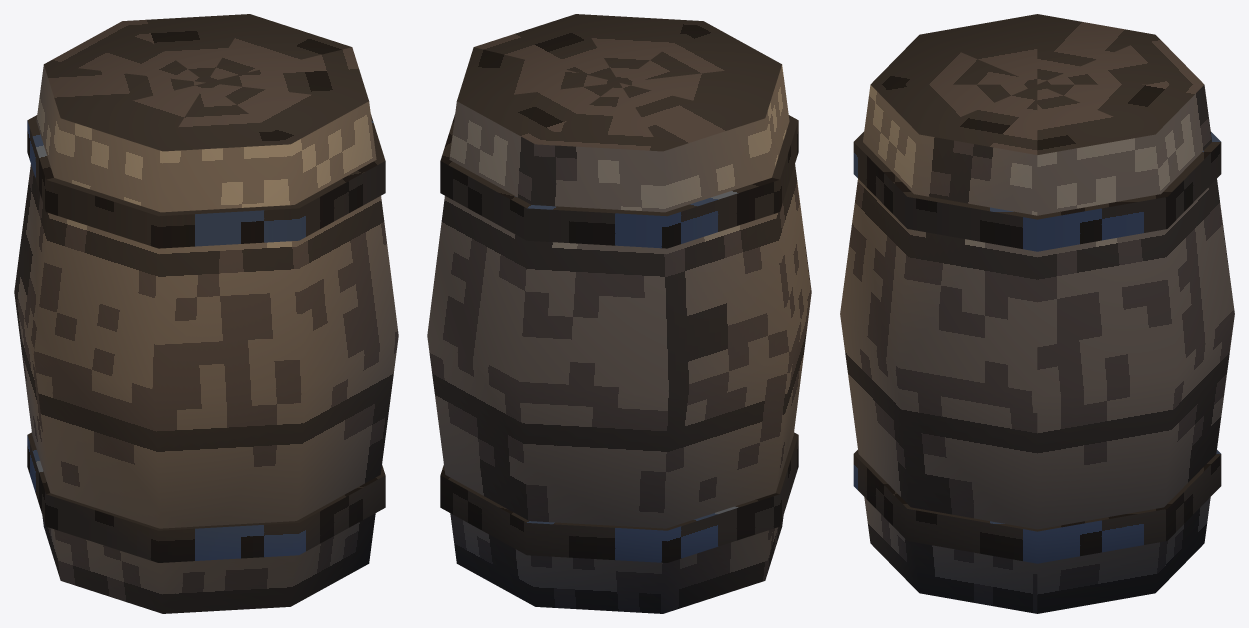
Rendered from mprop.barrel.glb.
The picture shows the model from 3 angles, left to right: view 1: azimuth 30°, elevation 25°; view 2: azimuth 150°, elevation 25°; view 3: azimuth 270°, elevation 25°; orthographic projection.
Parts seen in each view (by area): view 1: kit_staves, kit_hoops; view 2: kit_staves, kit_hoops; view 3: kit_staves, kit_hoops.
Part boxes in pixels (<box>): kit_staves: <box>14,14,398,613</box>; kit_hoops: <box>27,115,385,562</box>; kit_staves: <box>427,14,811,613</box>; kit_hoops: <box>440,115,798,562</box>; kit_staves: <box>840,14,1234,613</box>; kit_hoops: <box>853,131,1221,563</box>.
Bounding box in the file's own units: 0.78 × 1 × 0.78.
Materials: 3 (3 with a texture image).
